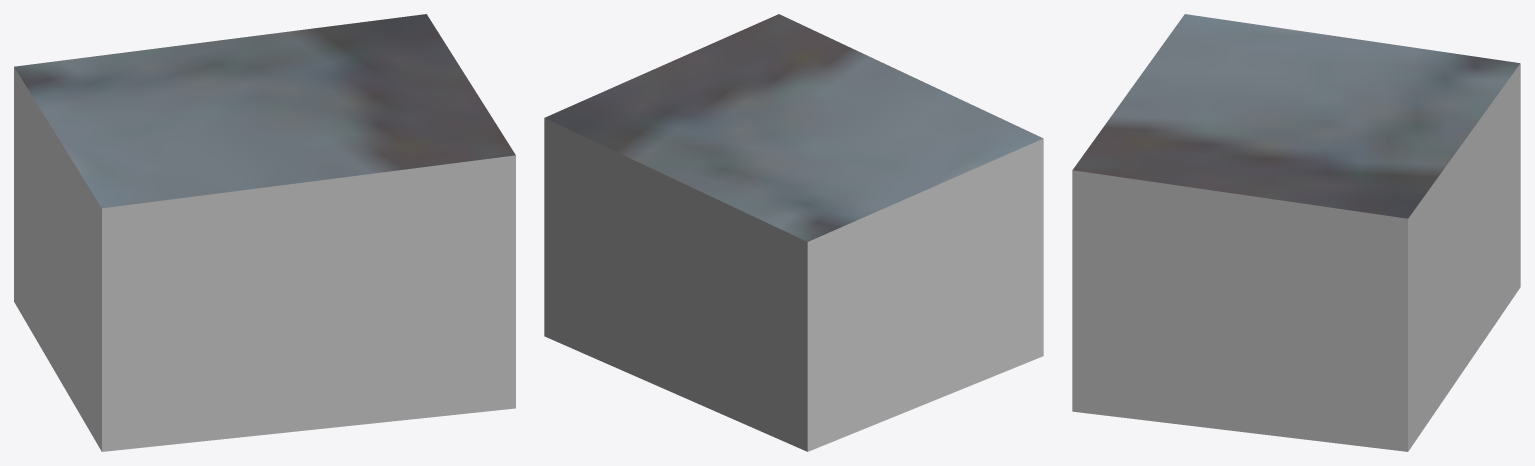
The model's file is DEBW_0010007THZf.gltf.
3 views of the same model, side by side, from view 1: azimuth 30°, elevation 25°; view 2: azimuth 150°, elevation 25°; view 3: azimuth 270°, elevation 25° (orthographic). The views are drawn at different scales.
Visible parts, largest first — view 1: Z_UP; view 2: Z_UP; view 3: Z_UP.
Boxes of the visible parts, x1,y1,x2,y2 form: Z_UP: [14, 14, 515, 451]; Z_UP: [544, 14, 1043, 451]; Z_UP: [1072, 14, 1520, 451].
Bounding box in the file's own units: 3.16 × 1.73 × 2.91.
2 materials, 1 textured.
